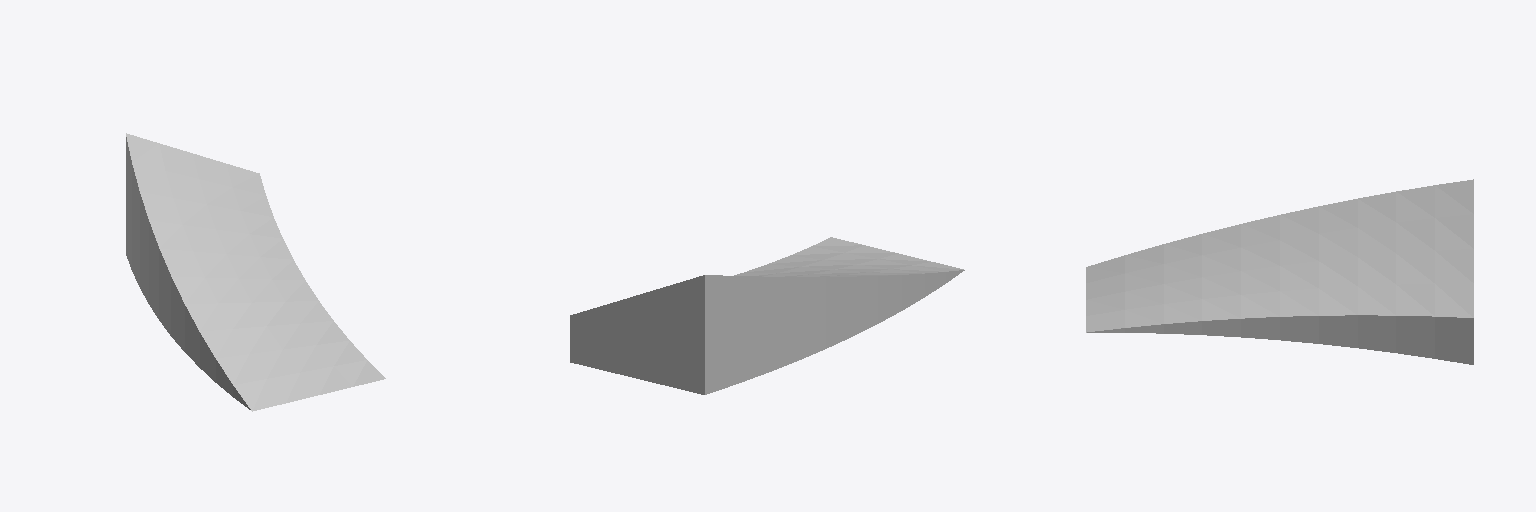
File: curved_ramp_V3_L.obj
The picture shows the model from 3 angles: view 1: azimuth 30°, elevation 25°; view 2: azimuth 150°, elevation 25°; view 3: azimuth 270°, elevation 25°; orthographic projection.
Parts seen in each view (by area): view 1: Cube.001; view 2: Cube.001; view 3: Cube.001.
Part boxes in pixels (left/top/right/bottom): Cube.001: left=126, top=133, right=385, bottom=411; Cube.001: left=570, top=237, right=964, bottom=394; Cube.001: left=1086, top=179, right=1473, bottom=364.
Size of the model in its own units: 1.2 by 0.6853 by 2.